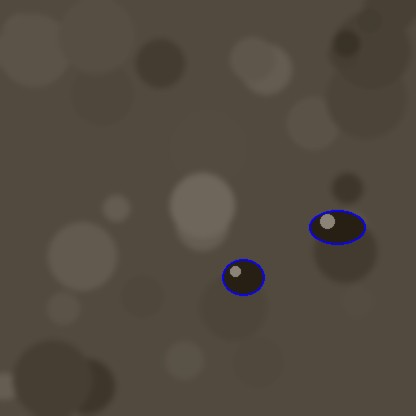gota: (309, 211, 365, 247), (222, 260, 264, 298)
